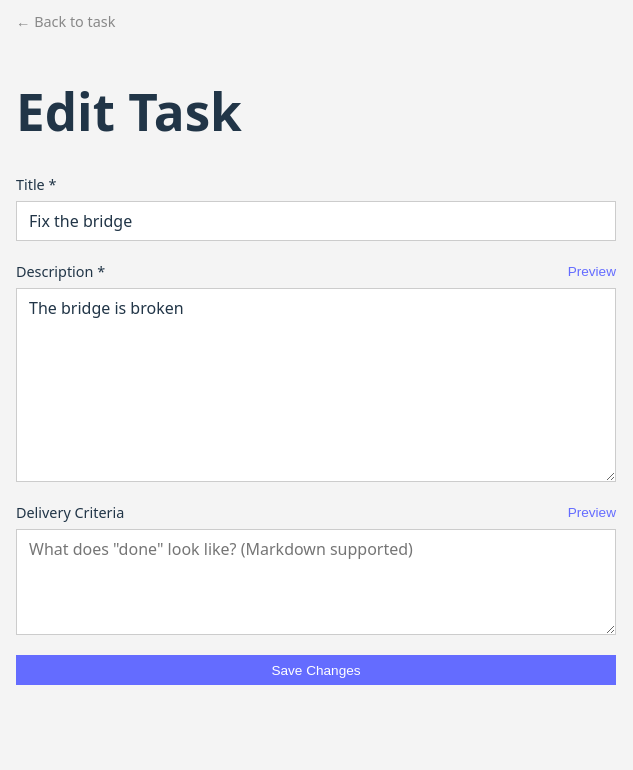
EditTask › shows error on submission failure
expect the field showing "Fix the bridge" is shown: met, box [16,201,616,241]
Click the button "Save Changes".
click(316, 670)  # box [16,655,616,685]
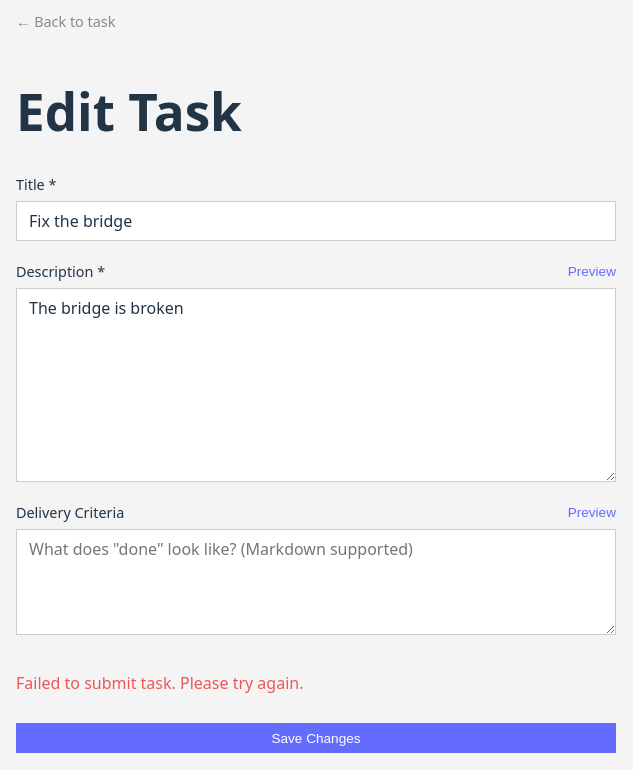
expect the text "Failed to submit task. Please try again." is shown: met, box [16,672,304,694]
